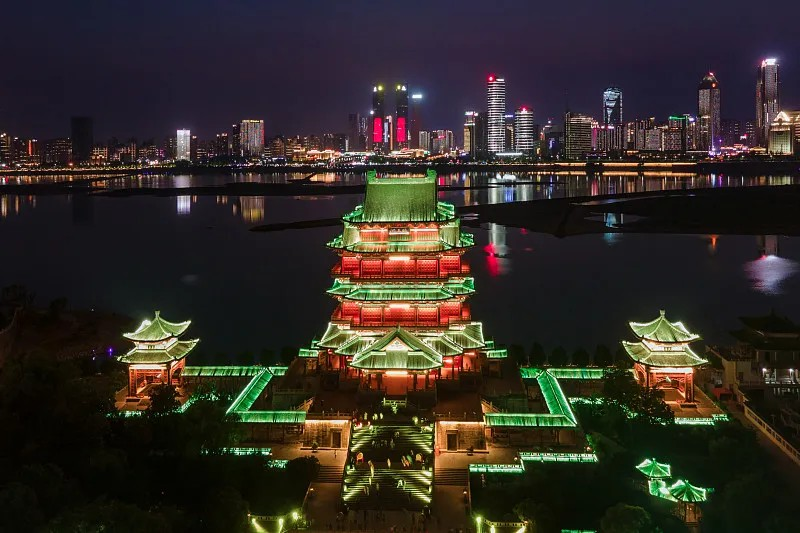Teng: (297, 170, 507, 368)
